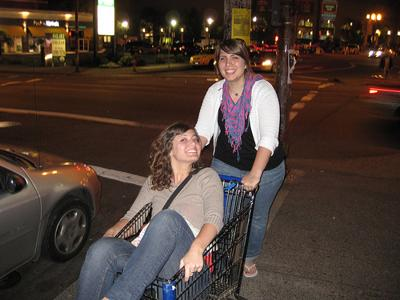person: (195, 39, 286, 278)
